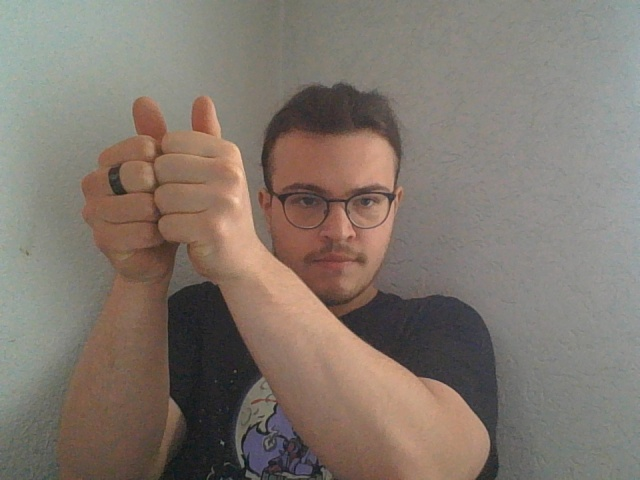Agree: (78, 94, 255, 286)
